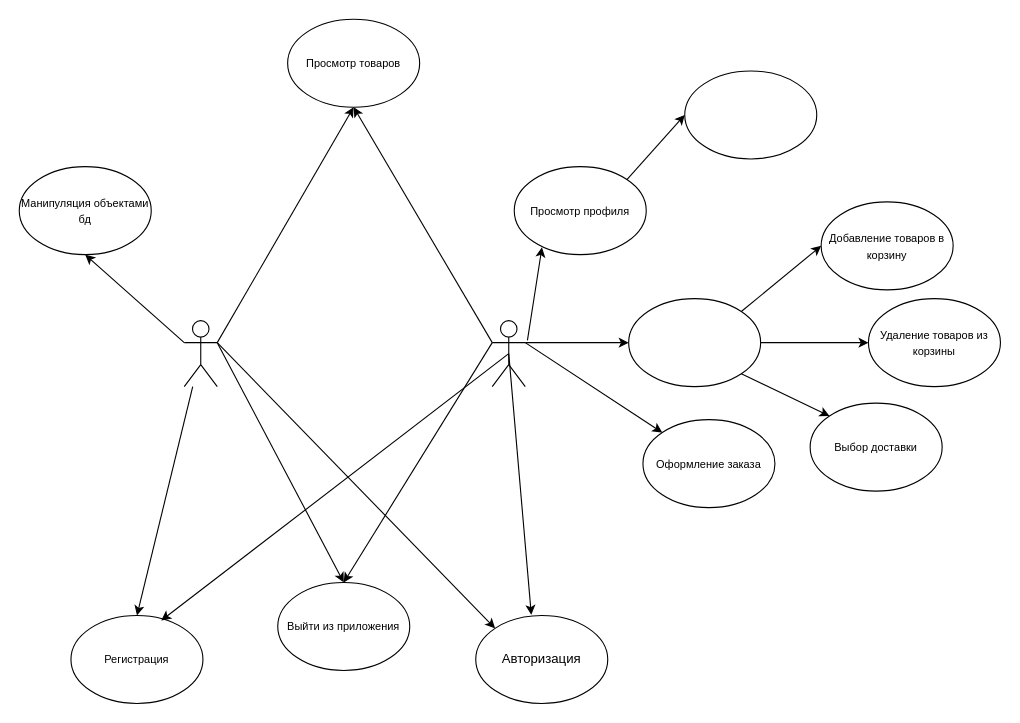
Some shapes in this 1020 by 723 pixel diagram are drawn without their labels. The centre of each missing label's shape, as x and y in pixels:
"Авторизованный пользователь" goes at [508,353].
"Администратор" goes at [200,353].
"Просмотр корзины" goes at [694,342].
"Смена пароля" goes at [750,114].
